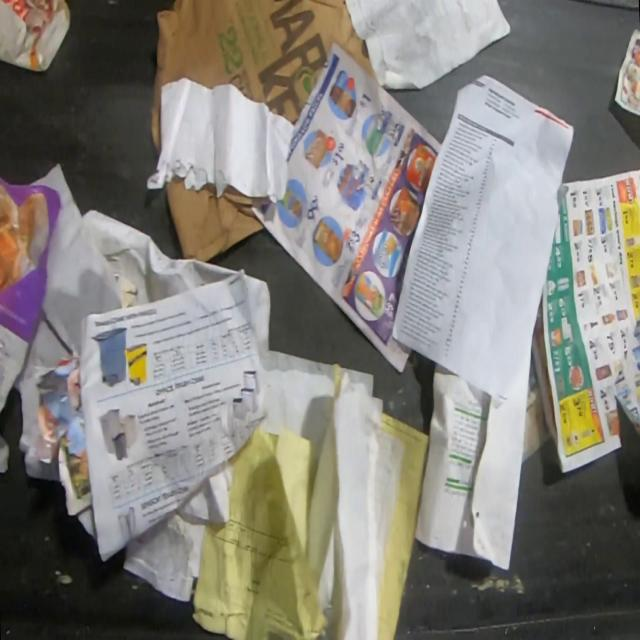cardboard: (150, 0, 379, 154), (164, 175, 269, 263)
